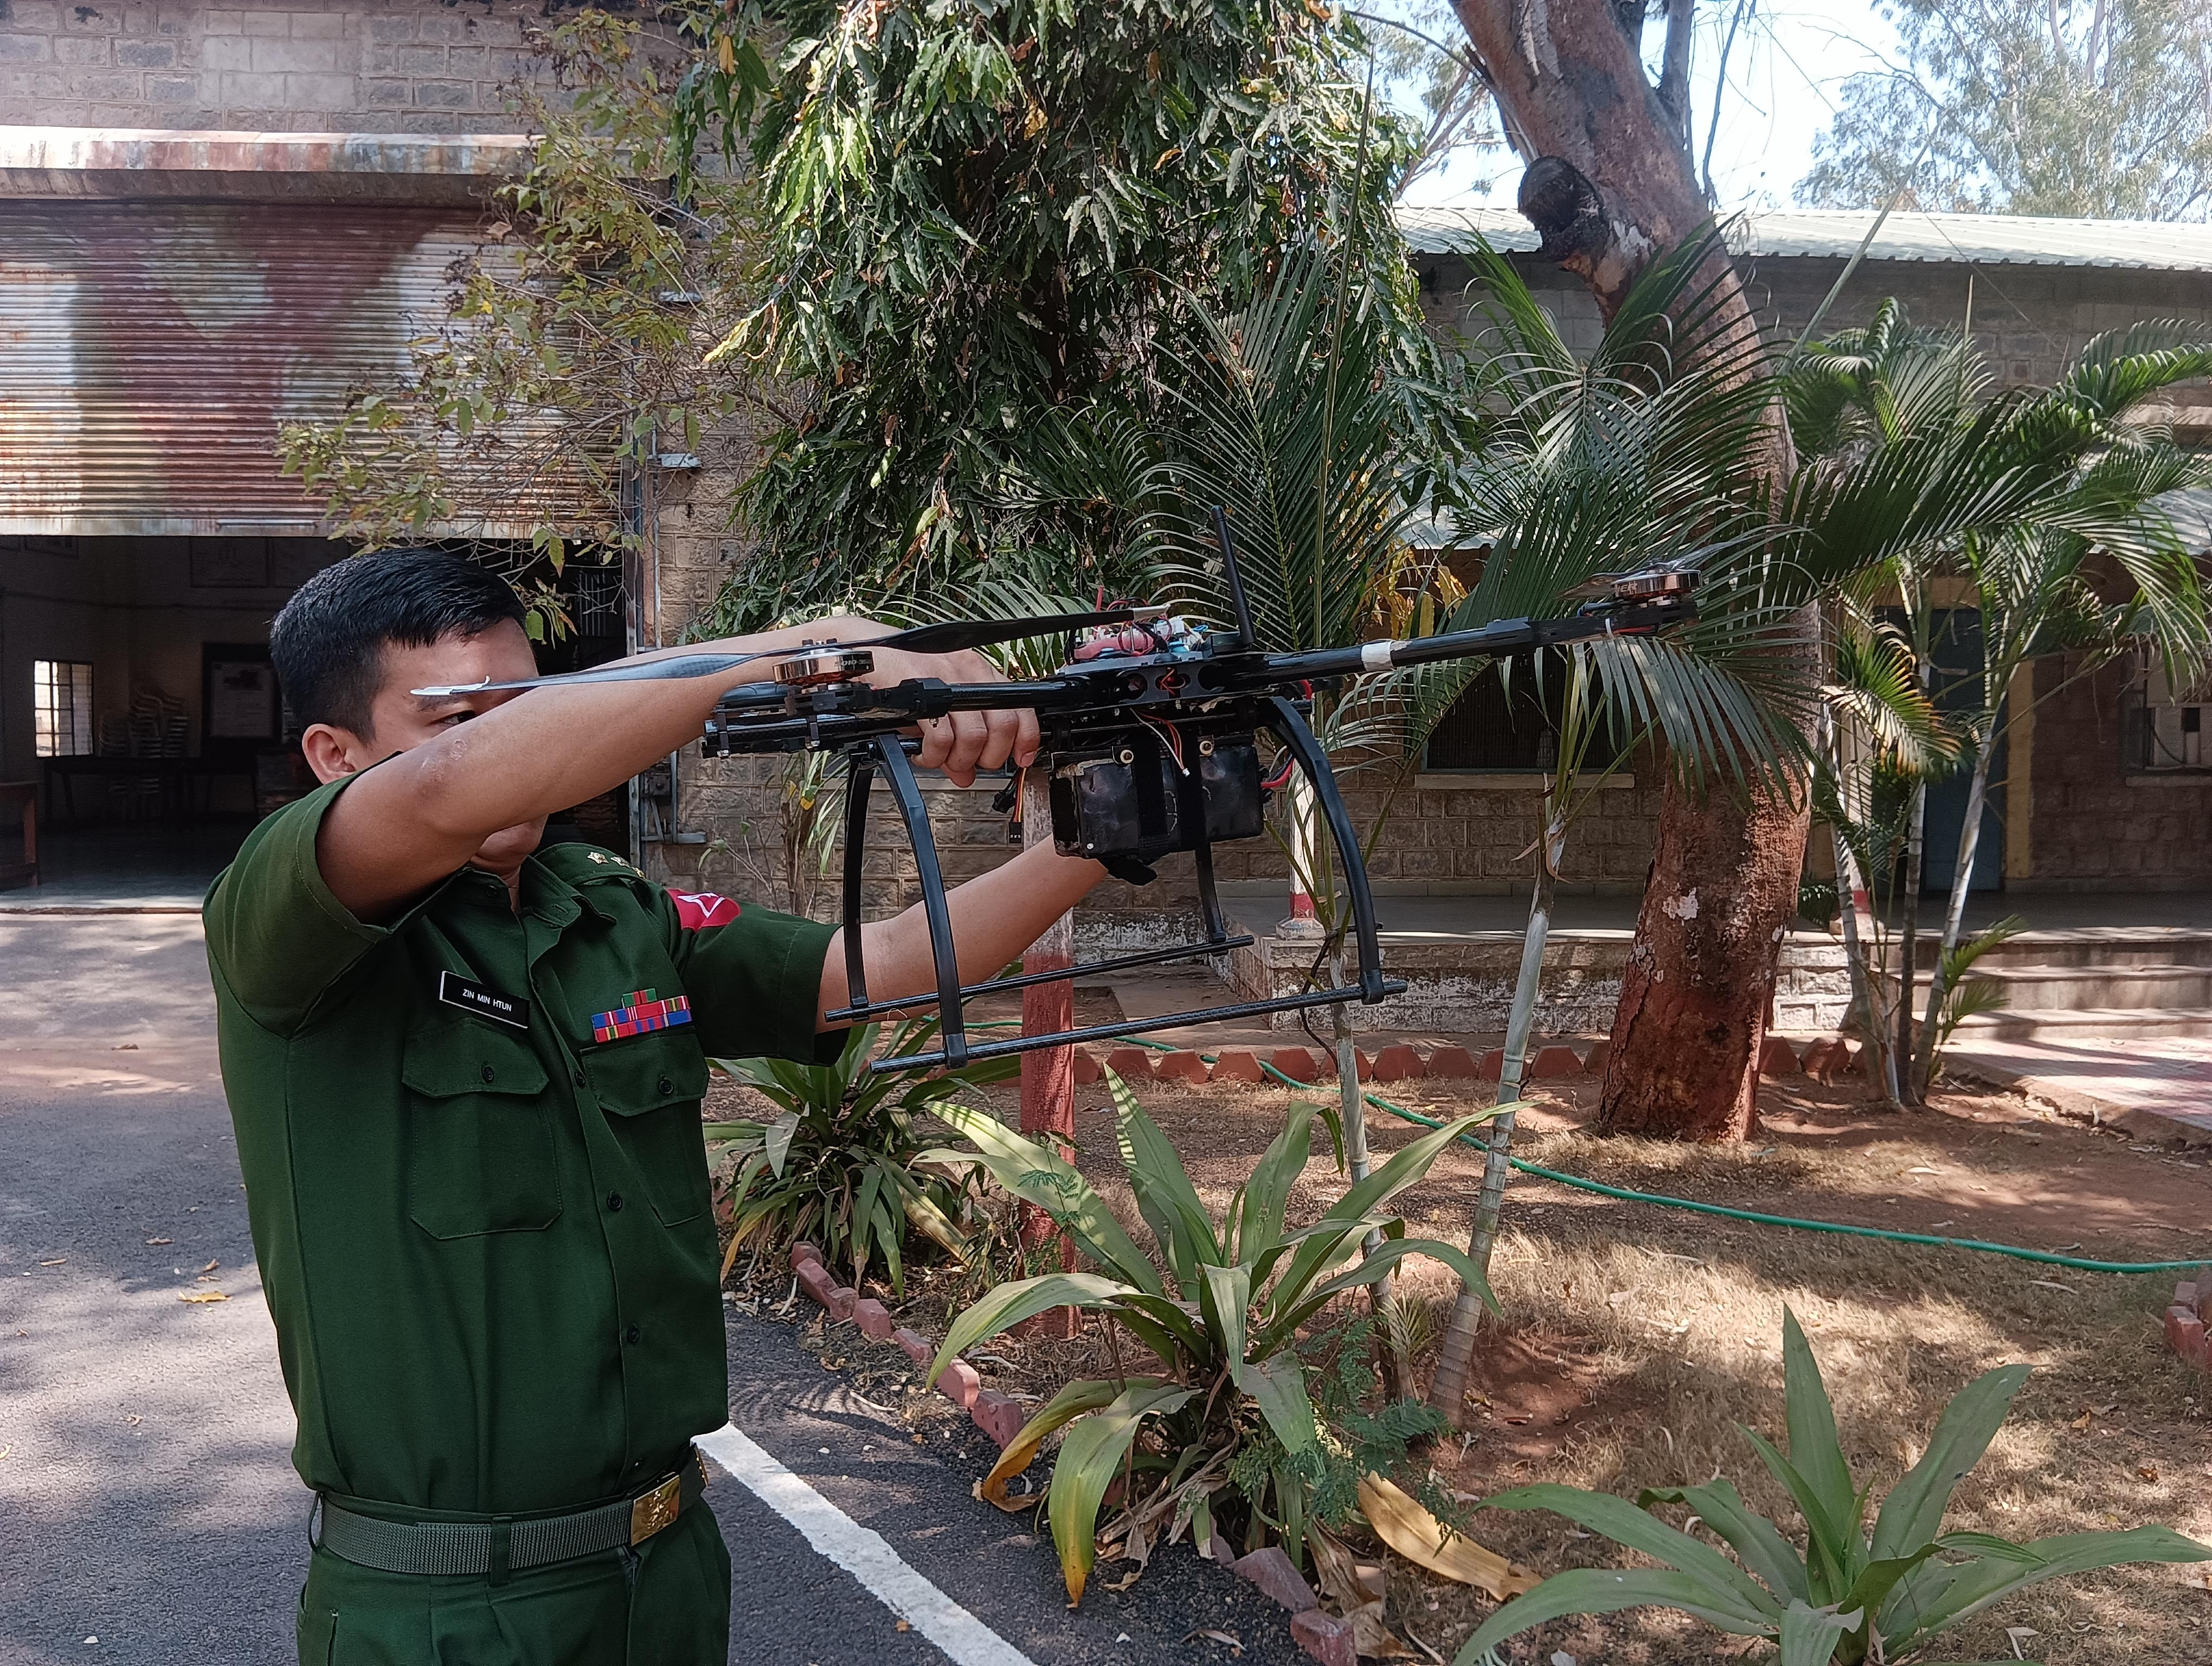drone: (348, 571, 1950, 1116)
